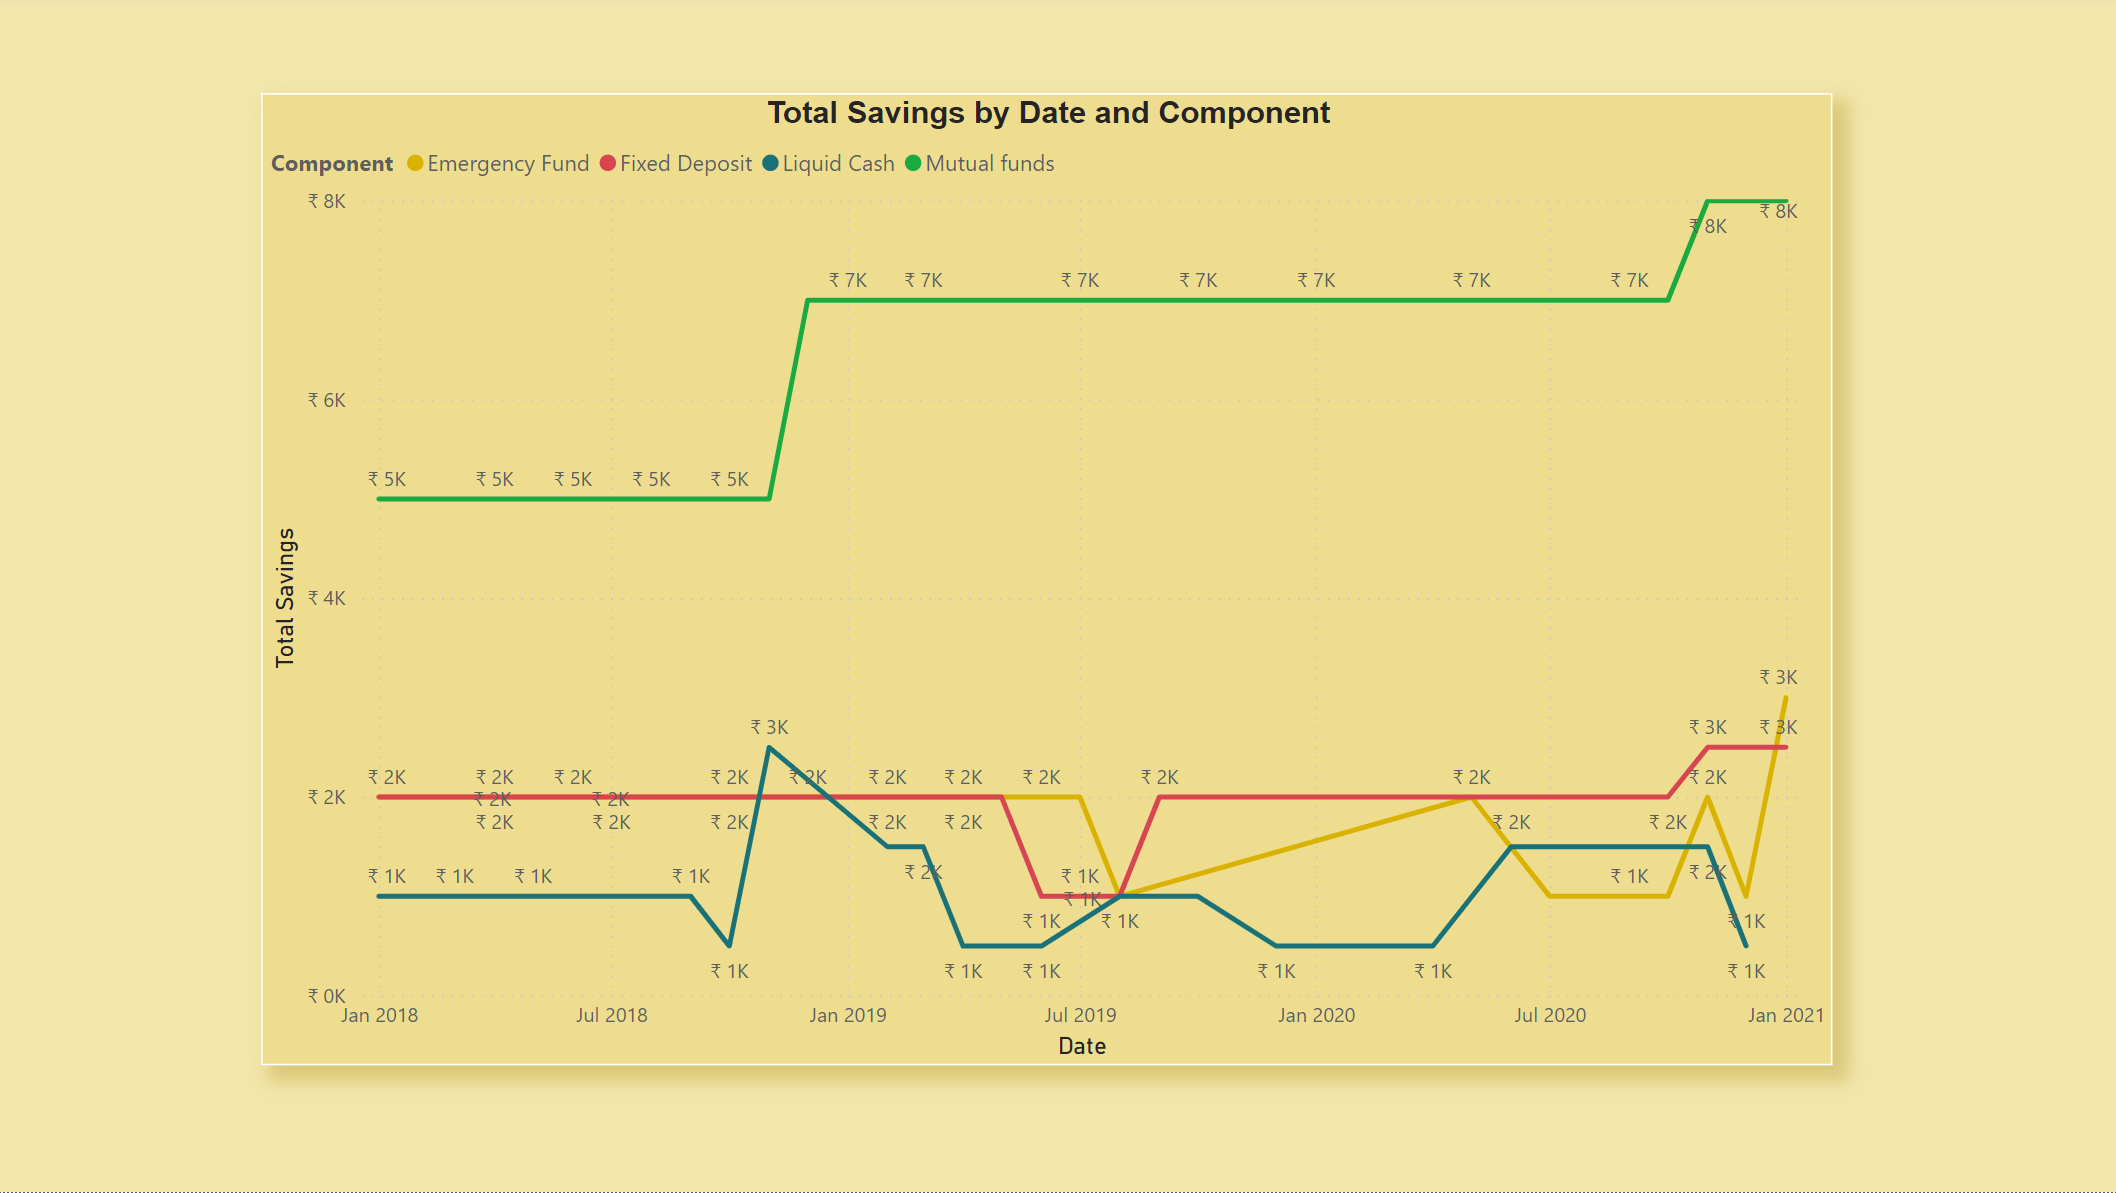

What the dashboard file says about the page in this screenshot:
{"tool":"powerbi","page":{"name":"Savings","canvas":[1280,720],"ordinal":2},"visuals":[{"type":"lineChart","fields":{"Series":["FinData.Component"],"Category":["FinData.Date"],"Y":["Key measures.Total Savings"]},"box":[161,57.6,946.9,586.3],"z":0}]}

Visuals, with their boxes in screenshot pixels (x1, y1, x2, y2), scaled from the page's 1280x720 canvas onto the 2116x1193 screenshot:
lineChart - FinData.Component x FinData.Date: Rect(266, 95, 1831, 1067)
